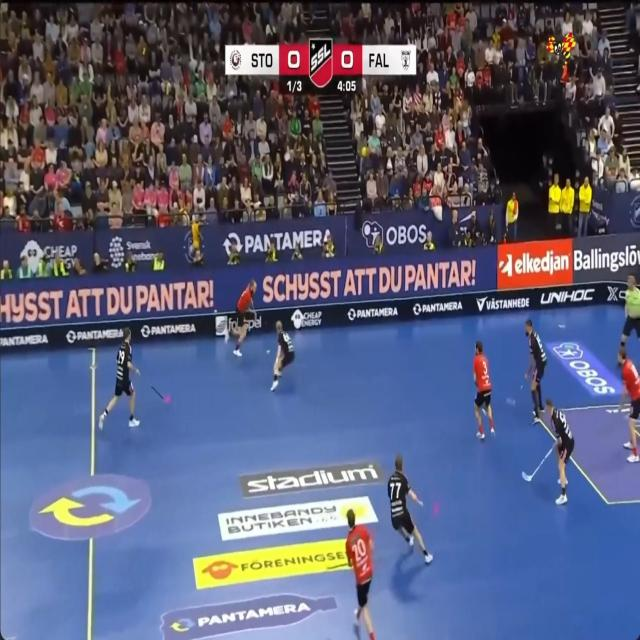player: (387, 453, 432, 563), (98, 328, 139, 429), (345, 509, 375, 639), (545, 399, 574, 504), (618, 346, 640, 461), (525, 320, 546, 422), (473, 341, 494, 439), (230, 279, 256, 355), (270, 320, 295, 390), (621, 273, 640, 346), (225, 325, 229, 341)
stick: (522, 444, 554, 482), (151, 385, 164, 400), (326, 562, 349, 569), (506, 398, 515, 406), (520, 385, 523, 391)
